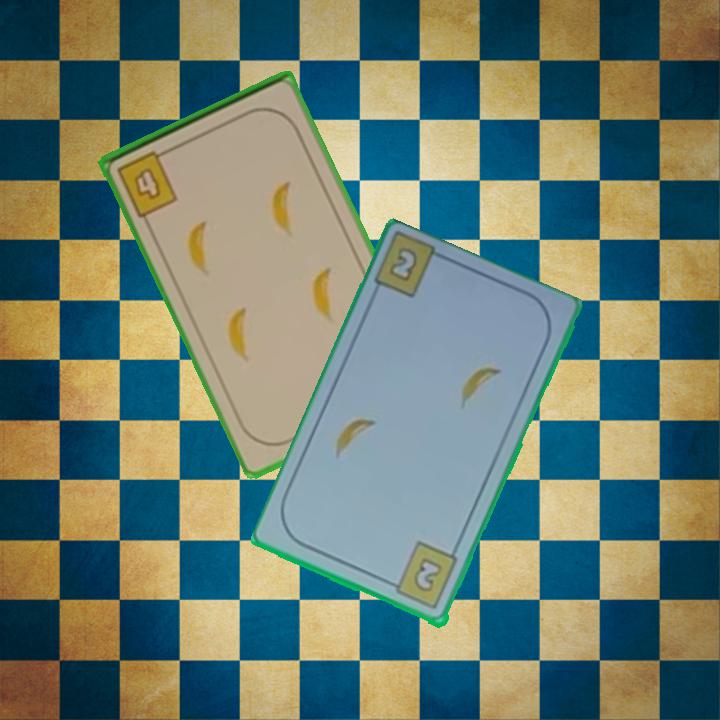2b: (384, 539, 461, 613), (385, 244, 421, 285)
4b: (114, 144, 181, 220)
